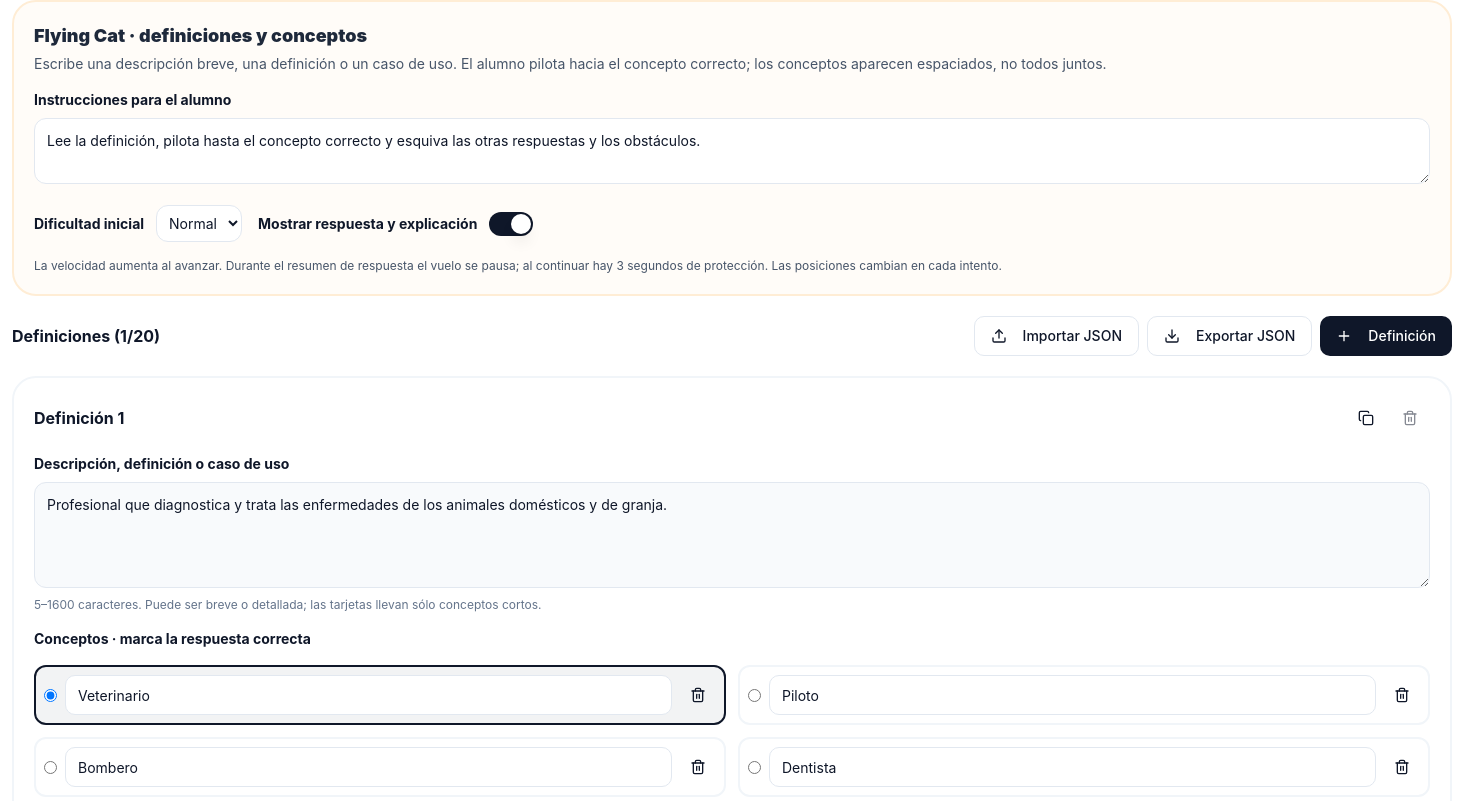
Test: Flying Cat teacher editor › imports the documented JSON example with validation
Click the button "Importar JSON": (1056, 336) [974, 316, 1139, 356]
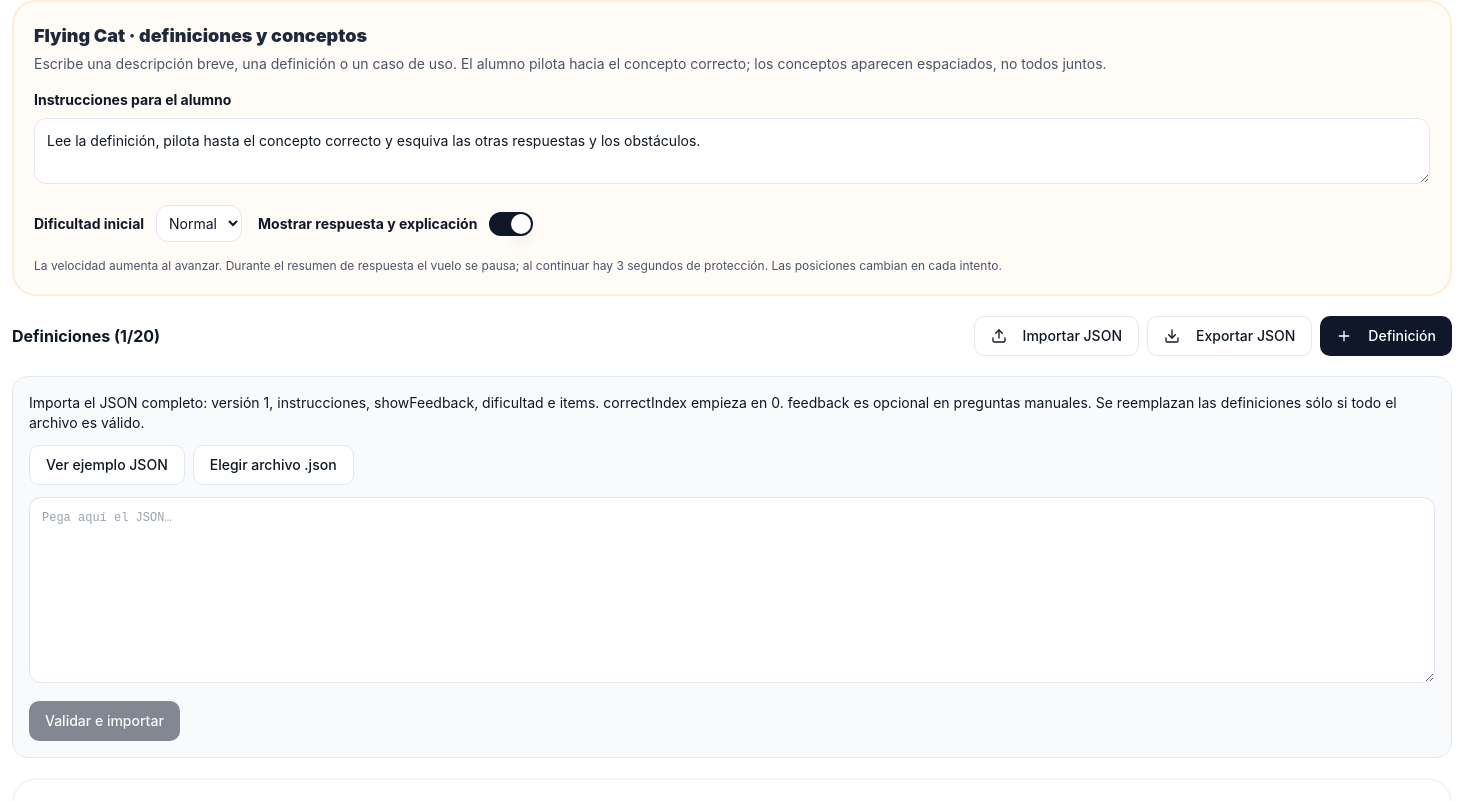
Click the button "Ver ejemplo JSON": (107, 465) [29, 445, 185, 485]
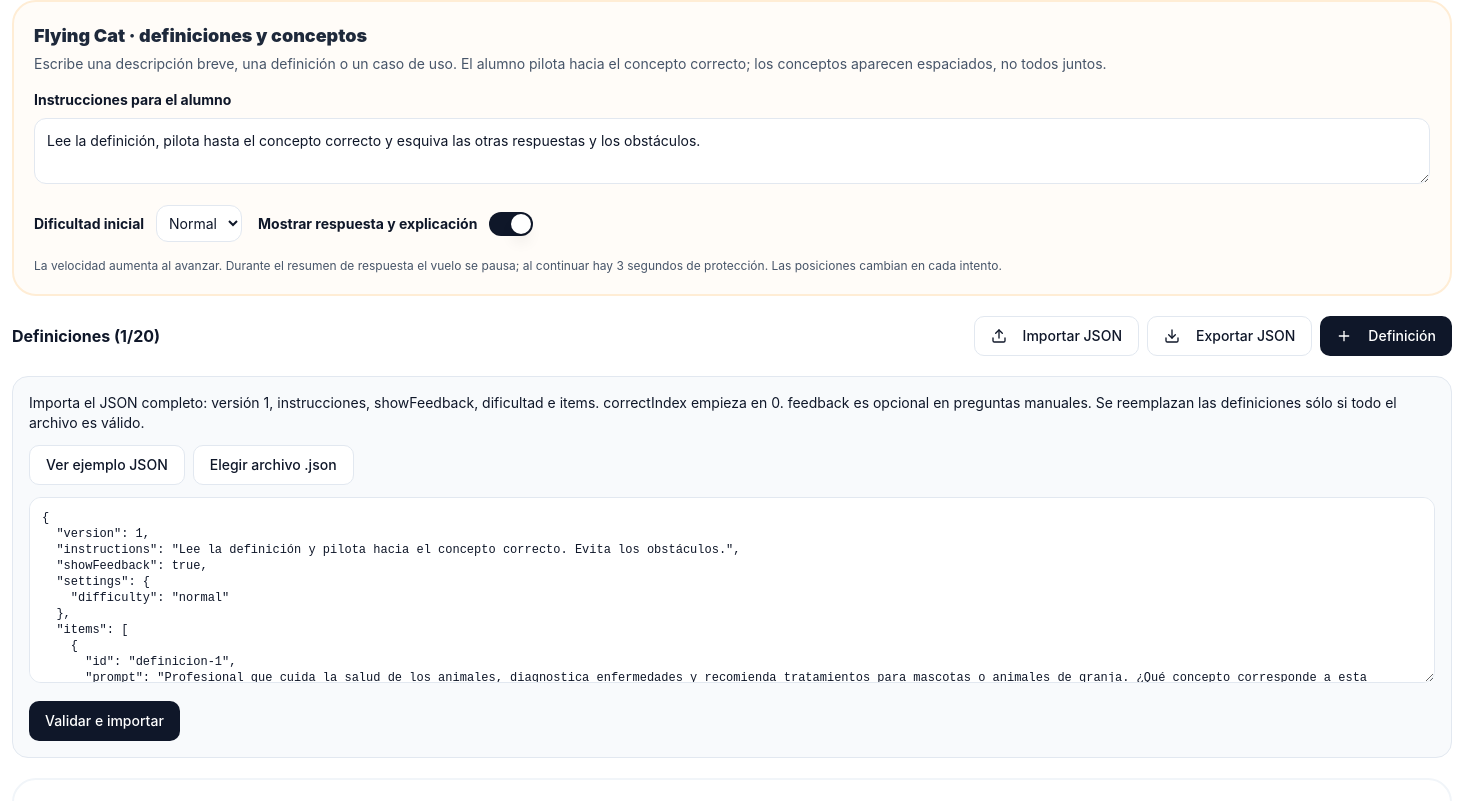
Click the button "Validar e importar": (104, 721) [29, 701, 180, 741]
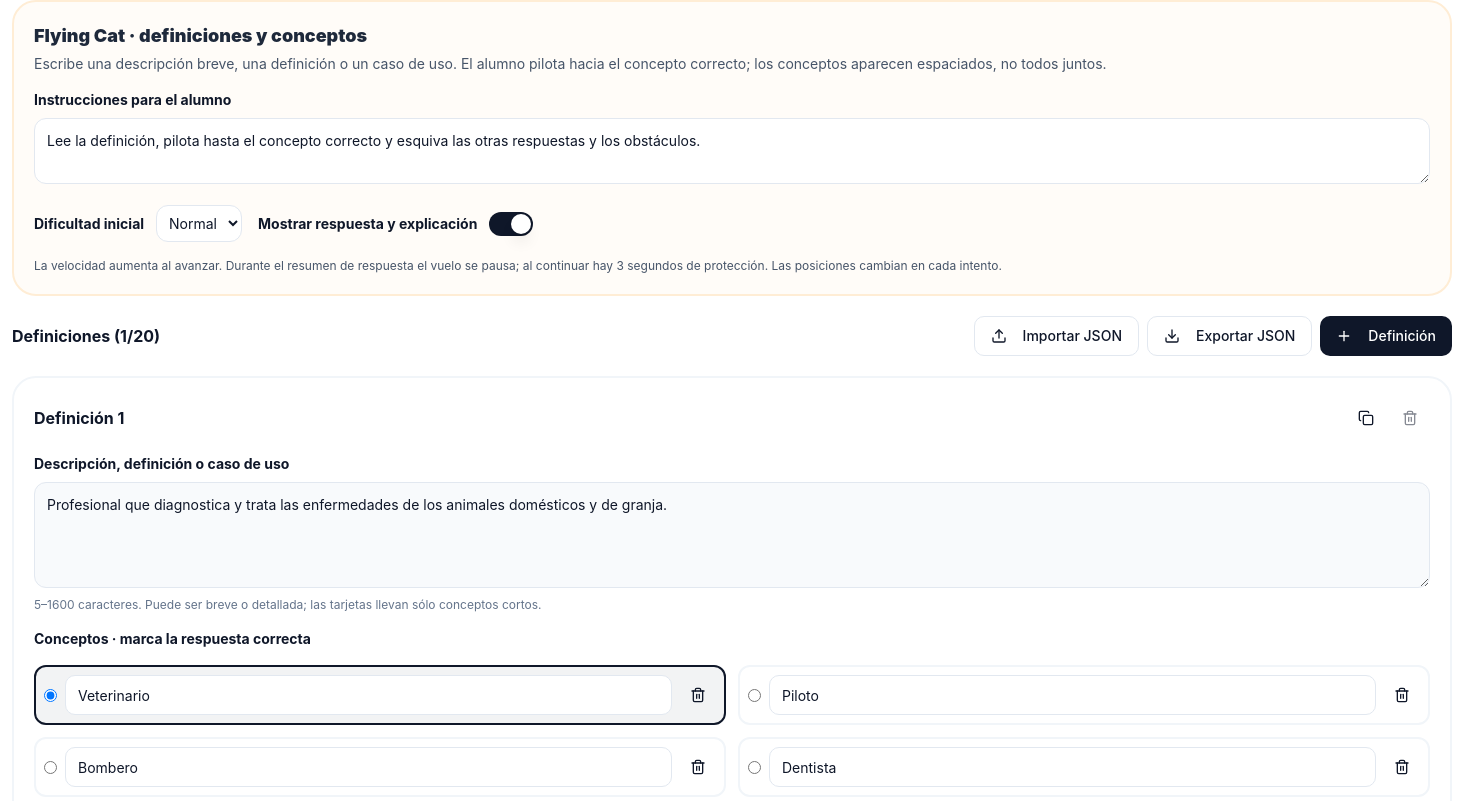
Result: the button "Validar e importar" is gone
